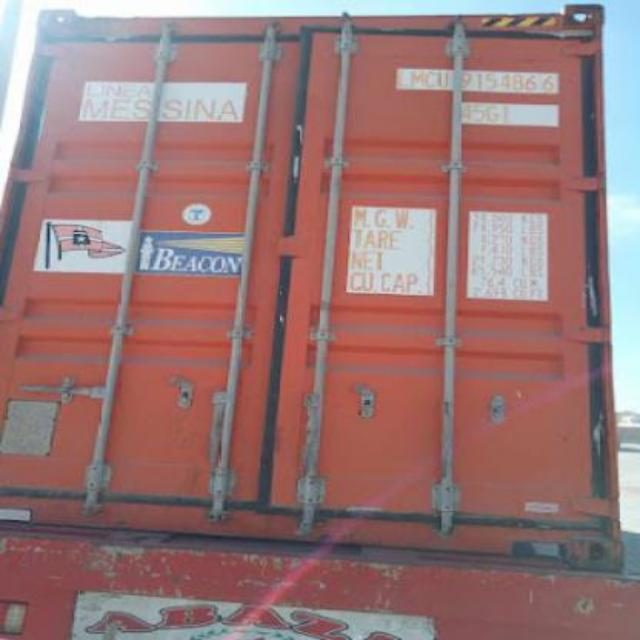1: (474, 68, 484, 94)
4: (498, 68, 512, 94)
5: (484, 64, 498, 92)
6: (524, 70, 540, 94), (544, 73, 554, 91)
8: (512, 67, 524, 96)
9: (461, 66, 474, 92)
C: (424, 64, 436, 96)
L: (388, 64, 409, 92)
M: (408, 68, 424, 94)
U: (434, 67, 452, 91)
